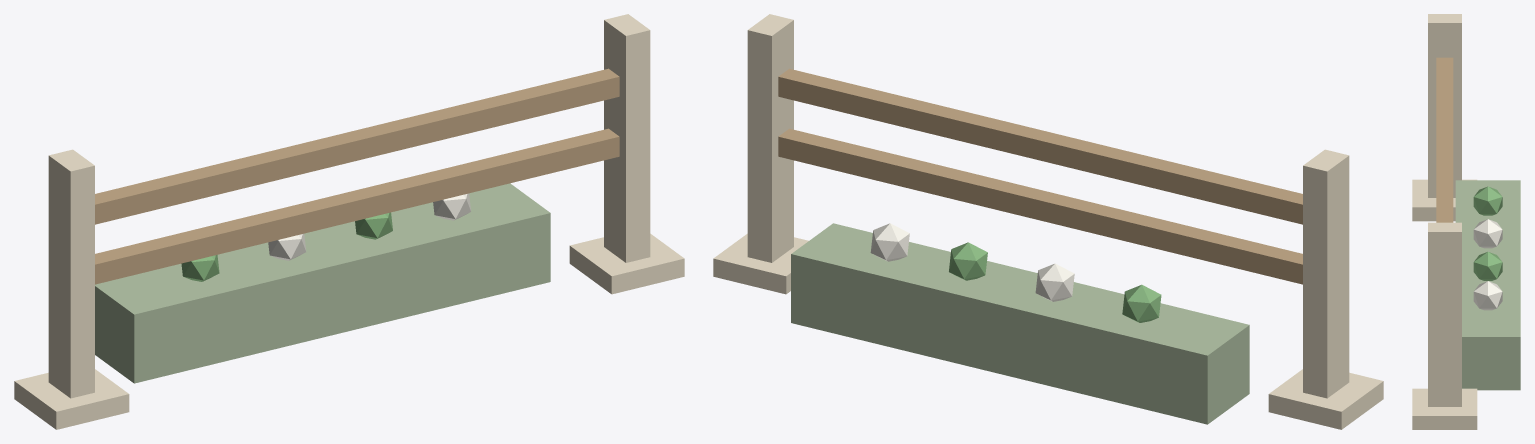
Rendered from jump.glb.
3 views of the same model, side by side, from view 1: azimuth 30°, elevation 25°; view 2: azimuth 150°, elevation 25°; view 3: azimuth 270°, elevation 25° (orthographic). The views are drawn at different scales.
Parts seen in each view (by area): view 1: Jump; view 2: Jump; view 3: Jump.
Part boxes in pixels (<box>): Jump: <box>14,14,684,429</box>; Jump: <box>713,14,1383,429</box>; Jump: <box>1412,14,1520,429</box>.
Size of the model in its own units: 3.62 by 1.35 by 0.7.
